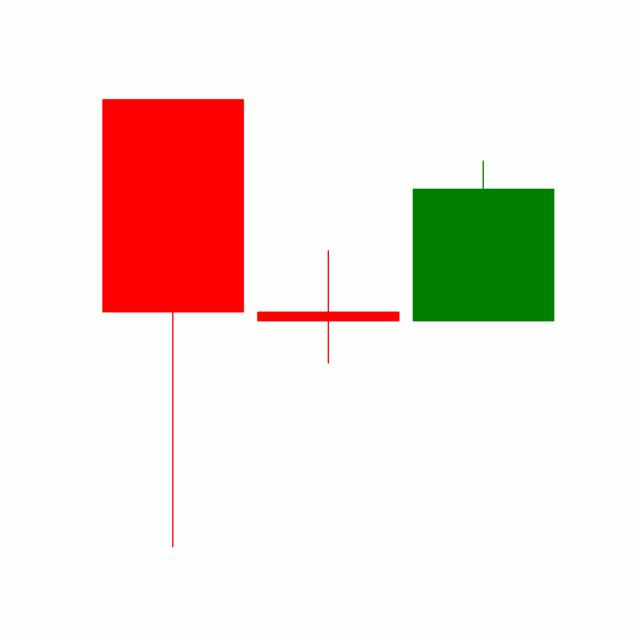Spinning Top: (249, 248, 406, 365)
